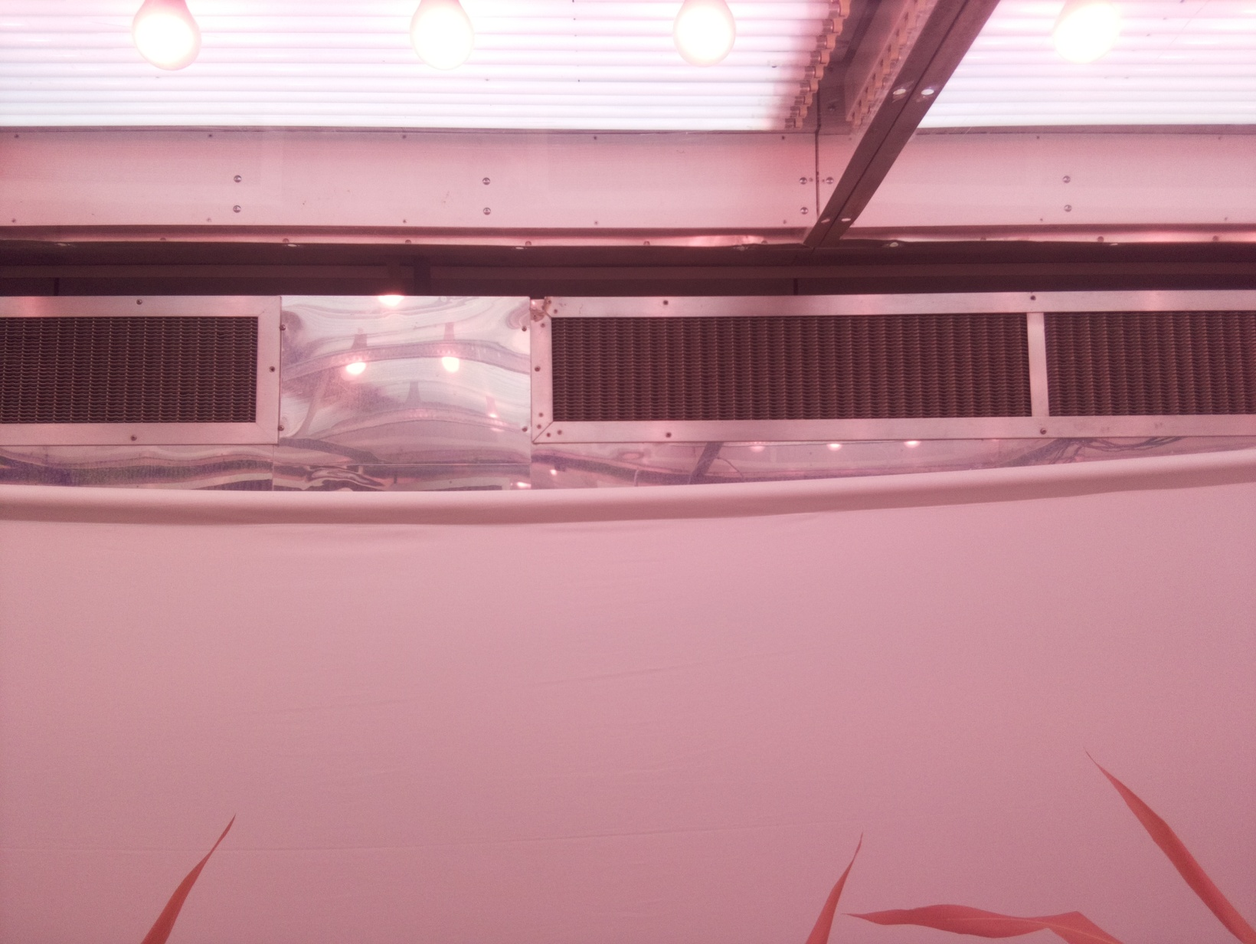maize: (803, 831, 1126, 944), (1084, 749, 1256, 944), (140, 812, 237, 944)
